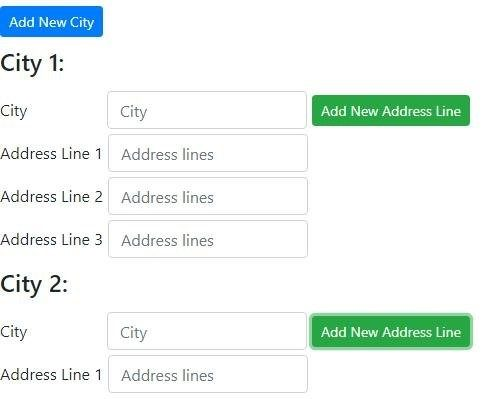_form_: (1, 1, 416, 399), (71, 1, 486, 399)
button: (309, 312, 473, 352), (311, 93, 471, 128)
field: (105, 89, 309, 131), (106, 176, 309, 217), (106, 132, 308, 173), (106, 219, 310, 259), (105, 312, 307, 351), (106, 355, 308, 394)
field_with_label: (1, 87, 310, 130), (1, 130, 308, 173), (1, 175, 310, 217), (2, 218, 311, 260), (1, 311, 308, 352), (1, 355, 310, 395)
